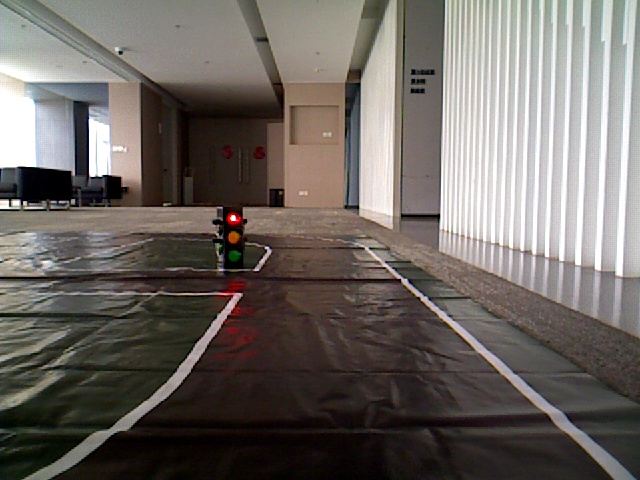red: (222, 206, 243, 263)
